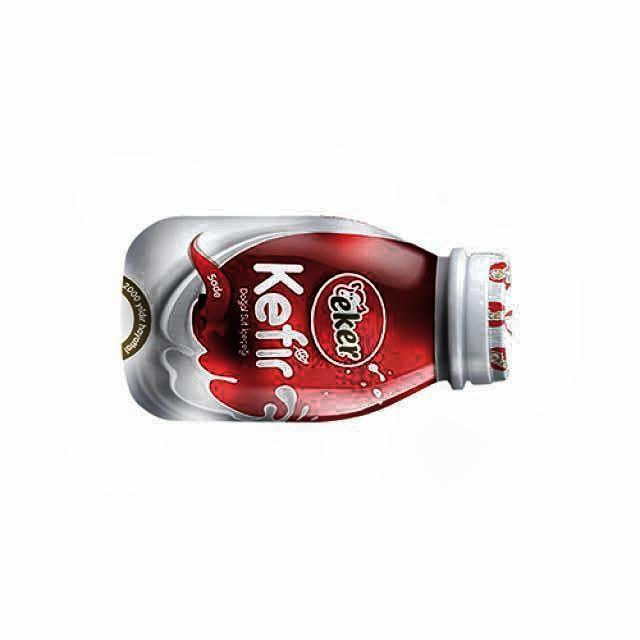plastic: (121, 218, 511, 421)
